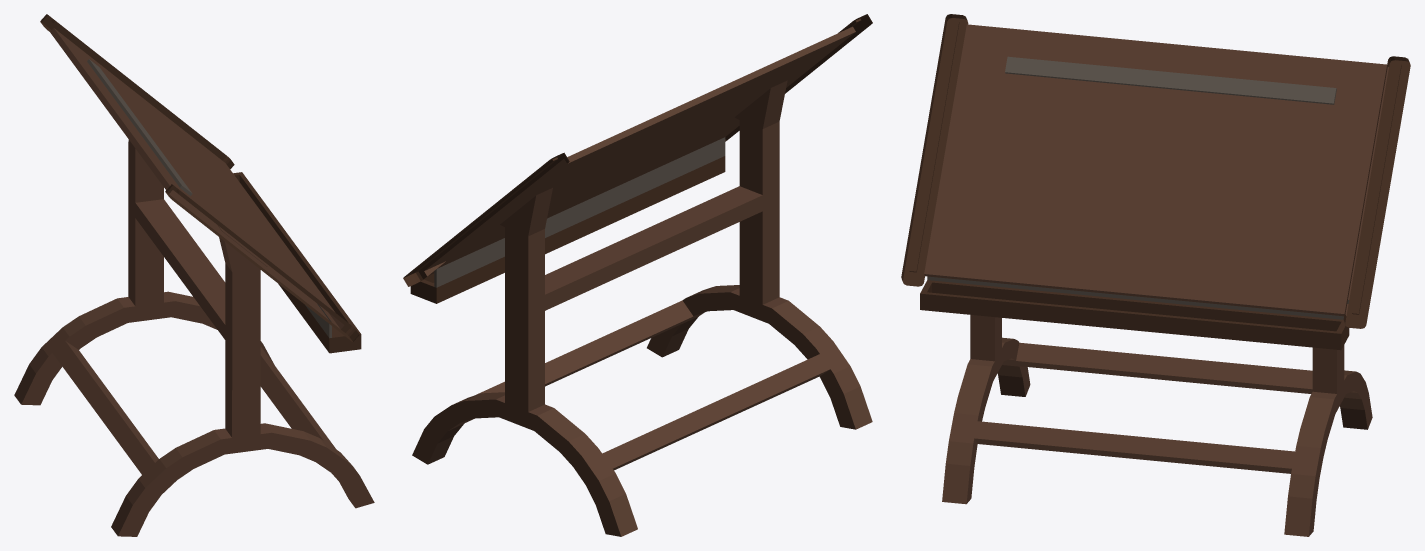
File: drawing_table.glb
3 renders of one model, left to right at view 1: azimuth 30°, elevation 25°; view 2: azimuth 150°, elevation 25°; view 3: azimuth 270°, elevation 25°, orthographic. The views are drawn at different scales.
Parts seen in each view (by area): view 1: workbench.001; view 2: workbench.001; view 3: workbench.001.
Part boxes in pixels (x1,y1,x2,y2): workbench.001: (14,14,374,536); workbench.001: (403,14,872,536); workbench.001: (901,14,1410,536).
Bounding box in the file's own units: 1.17 × 1.37 × 1.63.
